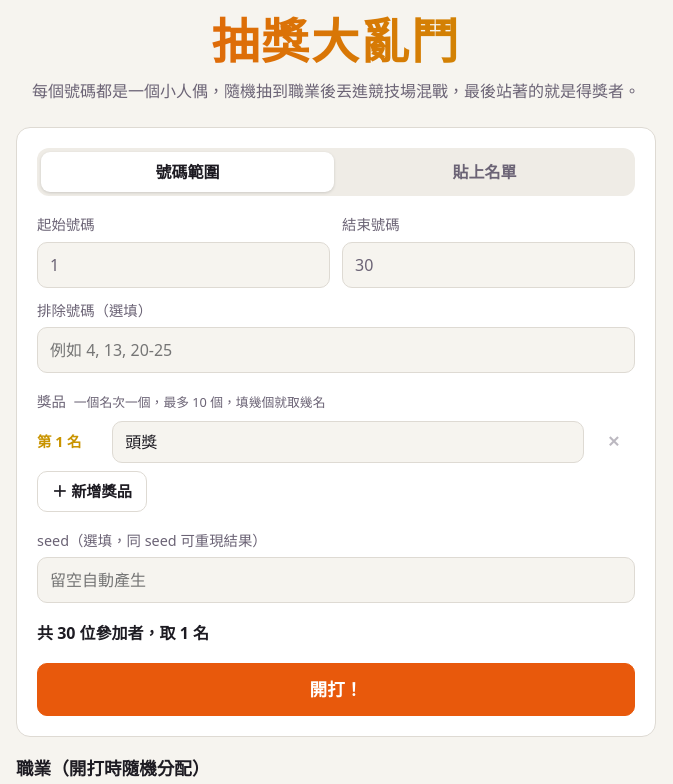
Test: SetupScreen › rejects an invalid seed
Type "abc" into the field labelled "seed（選填，同 seed 可重現結果）" at {"x": 336, "y": 580}, box [37,557,635,603]
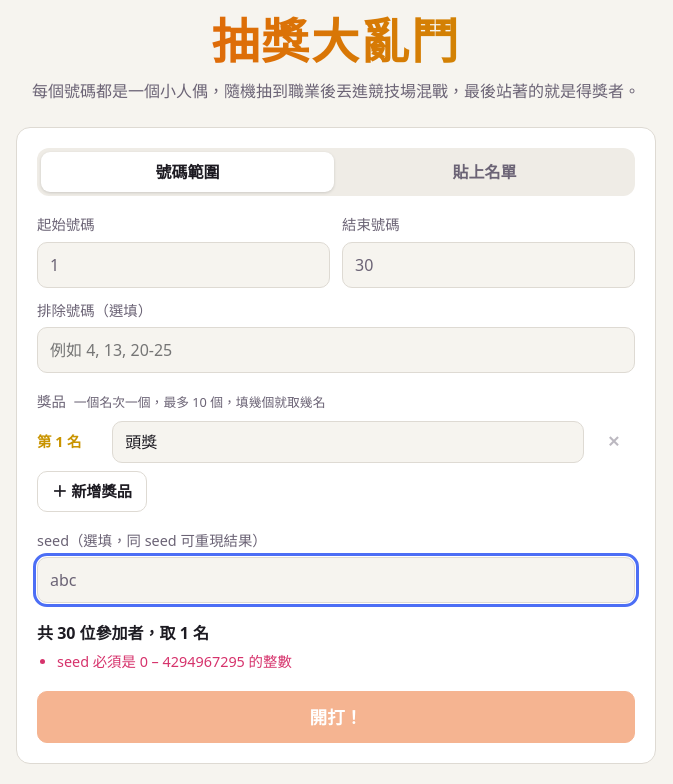
Check: the list item "seed 必須是 0 – 4294967295 的整數" is shown, box [57,652,292,671]
